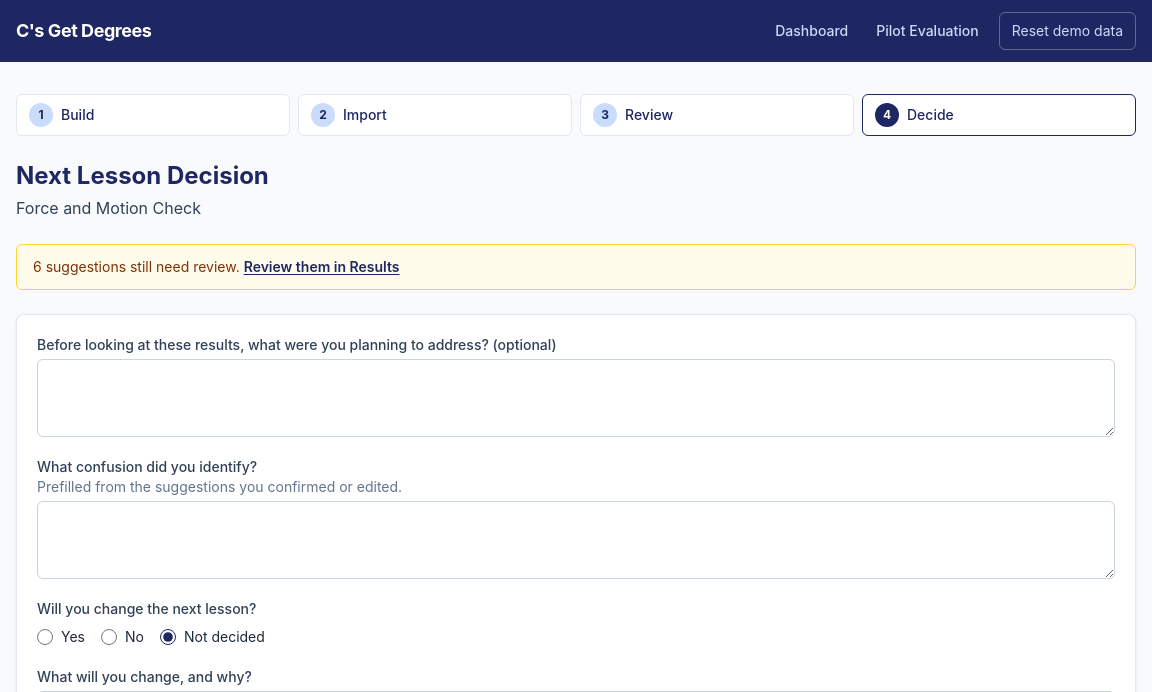
Test: Yes + justification shows "Counts as a justified teaching decision"
Click the radio button labelled "Yes": (45, 637) [37,629,53,645]
(page scrolled)
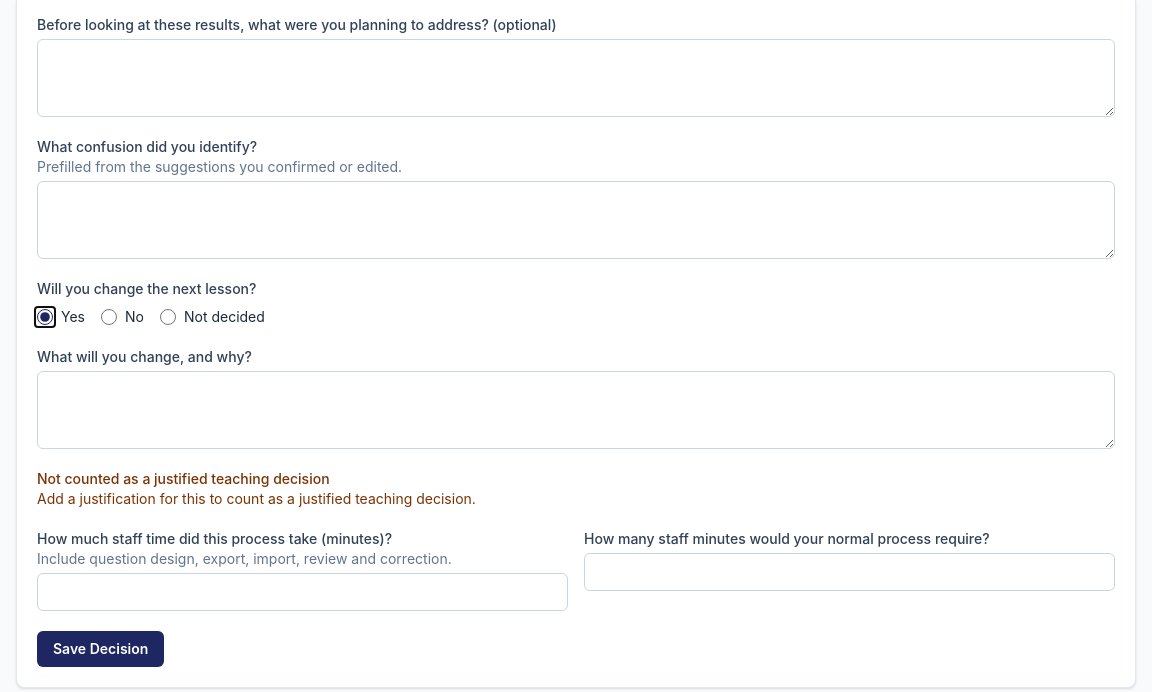
In the text box labelled "What will you change, and why?": (576, 410) [37,371,1115,449], type "Start with a frictionless-track demo."
(page scrolled)
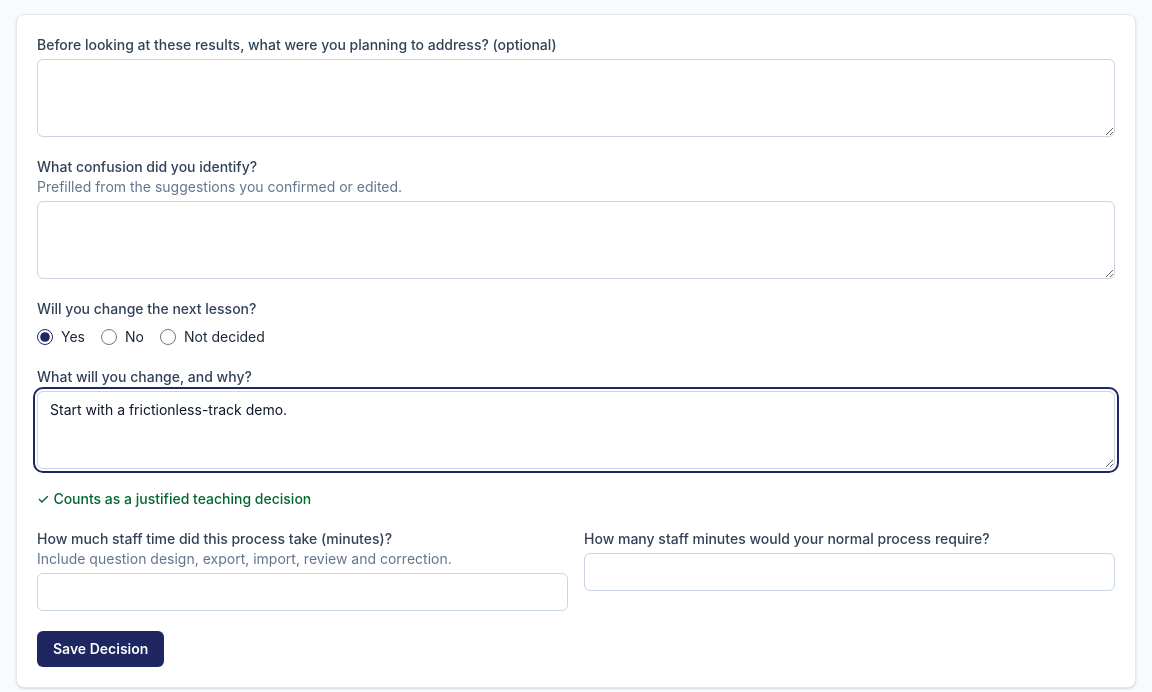
Result: the text "Counts as a justified teaching decision" is shown at [53,489,311,509]
Result: the text "Add a justification" is gone
